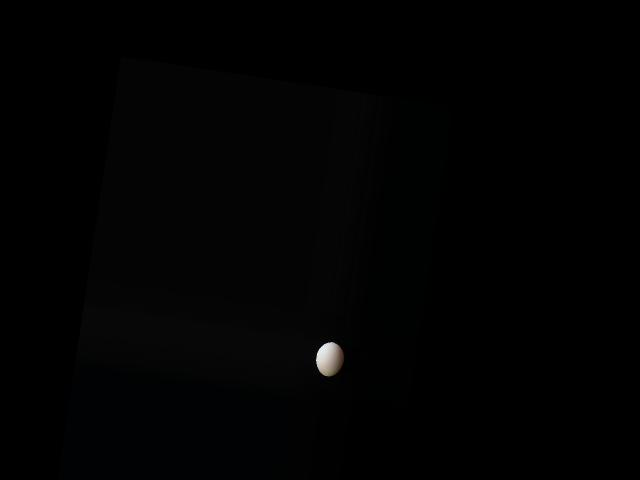egg: (313, 341, 346, 379)
